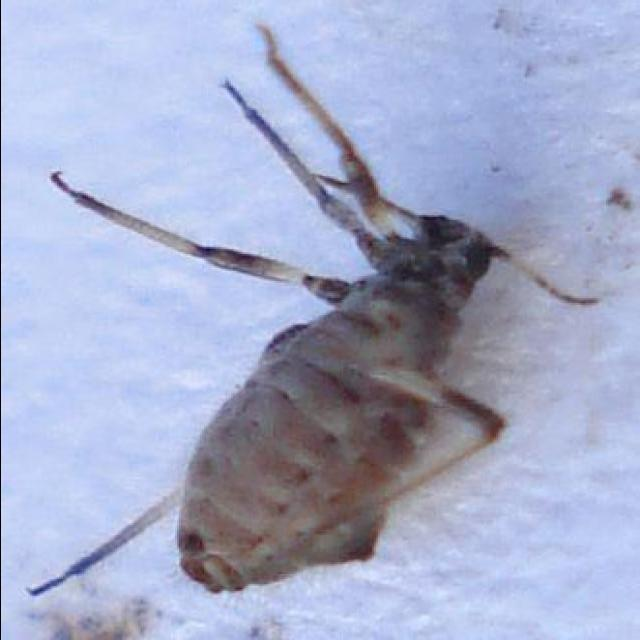aphid: (64, 58, 559, 602)
